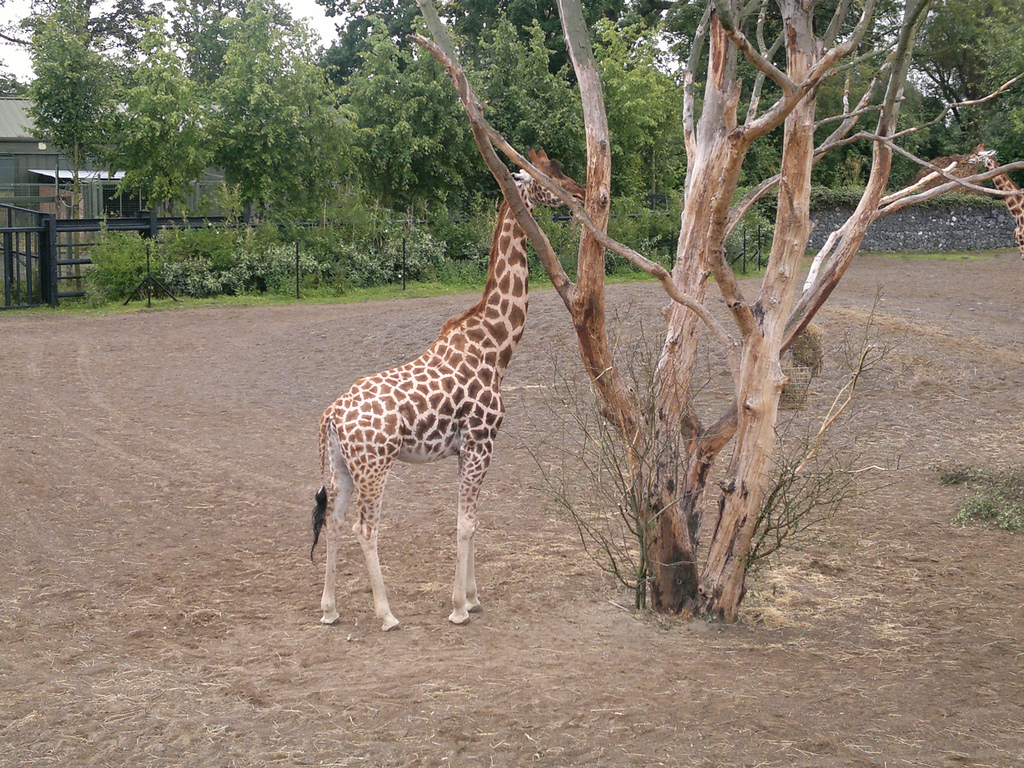giraffe: (278, 152, 576, 683)
